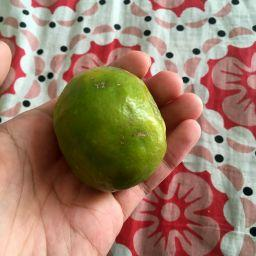Unripe: (53, 67, 167, 191)
